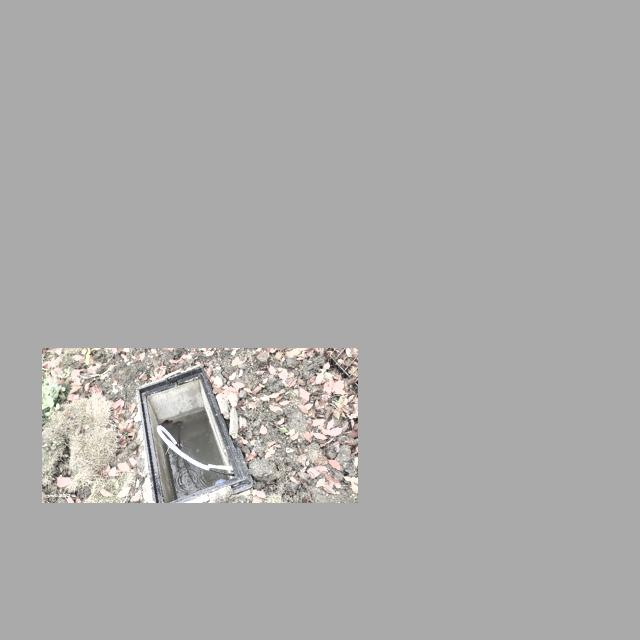lose: (137, 365, 255, 502)
